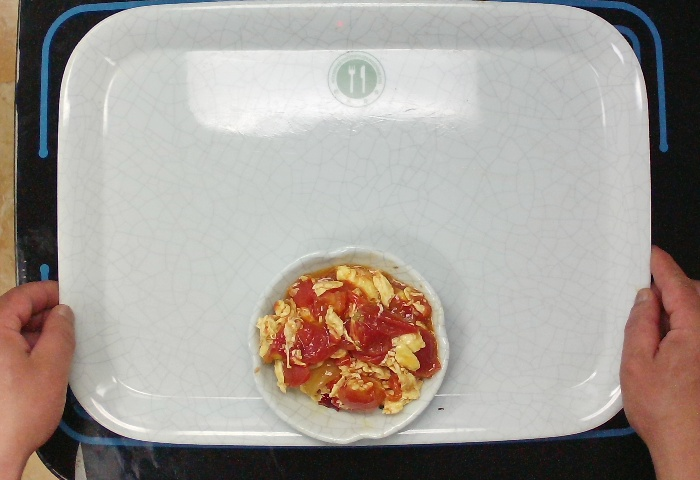JYsf-Ao_Yuan_Wan: (236, 242, 452, 448)
